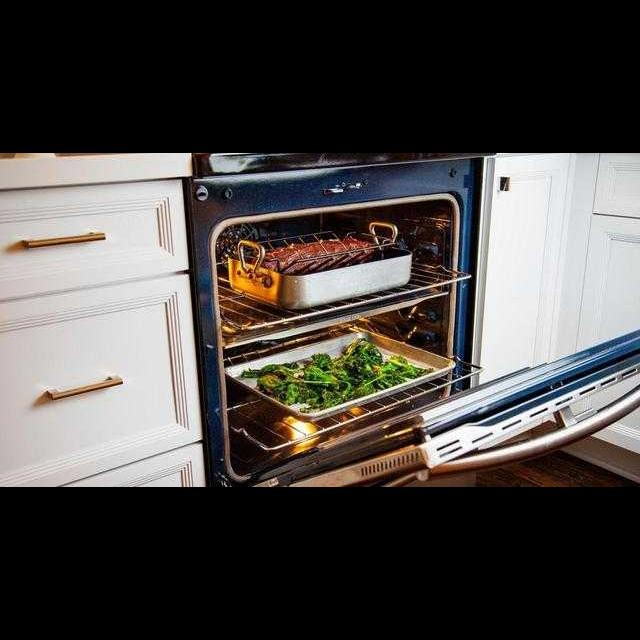Oven: (183, 158, 467, 488)
